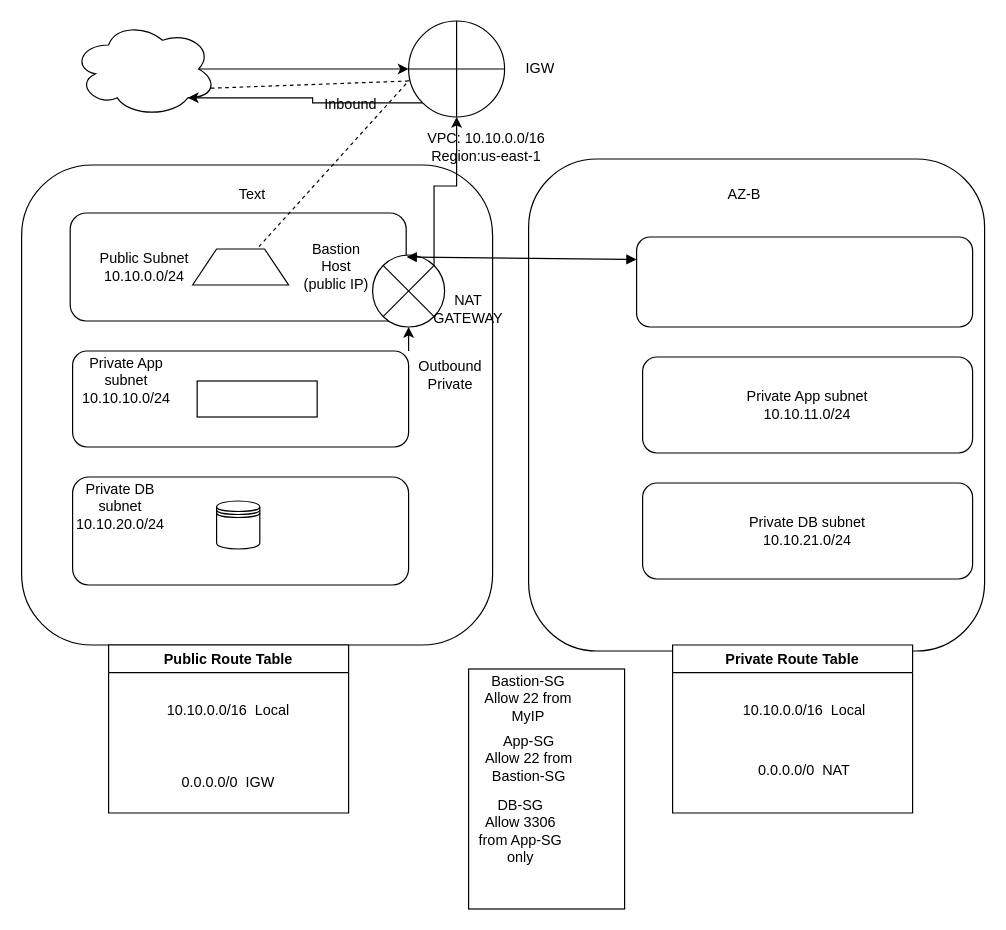
This 1006x930 diagram has some shape labels left out. The shapes that lost their labels are listed below. From the top down, each one's centre as x and y in pixels, then its label:
point (144, 68): Internet
point (804, 281): Public Subnet 10.10.1.0/24
